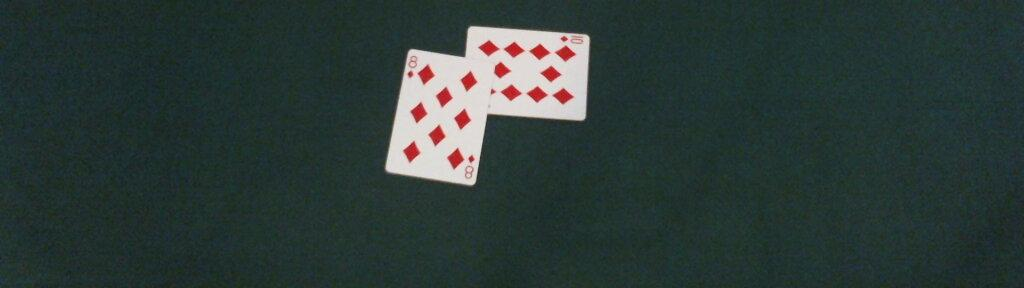eight: (383, 47, 495, 187)
ten: (465, 24, 591, 121)
